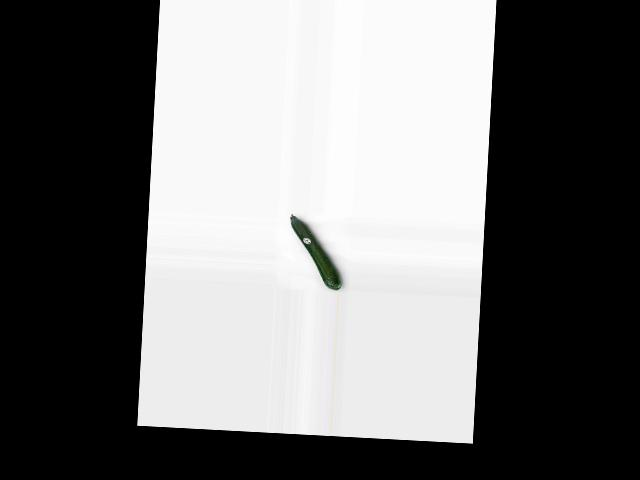cucumber: (286, 213, 344, 289)
